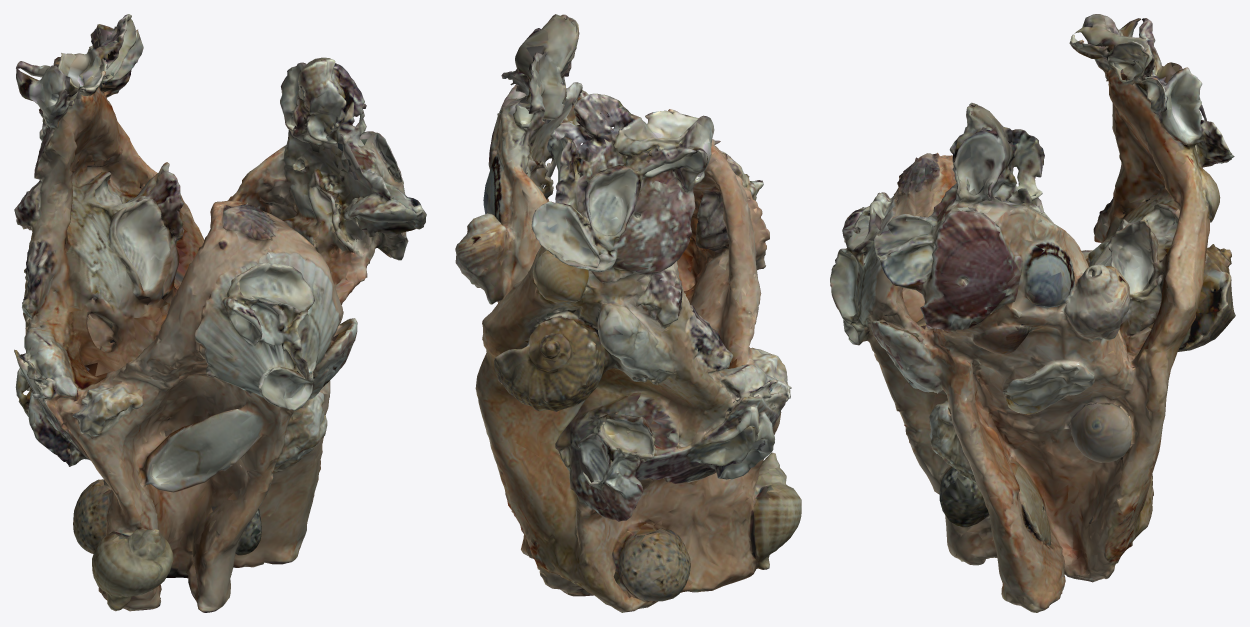
The model's file is 09_hong.glb.
3 renders of one model, left to right at view 1: azimuth 30°, elevation 25°; view 2: azimuth 150°, elevation 25°; view 3: azimuth 270°, elevation 25°, orthographic.
Visible parts, largest first — view 1: 수정후; view 2: 수정후; view 3: 수정후.
Boxes of the visible parts, <box> form: 수정후: <box>14,14,426,612</box>; 수정후: <box>455,14,801,612</box>; 수정후: <box>830,14,1235,612</box>.
Bounding box in the file's own units: 0.7587 × 1.19 × 0.8387.
Materials: 1 (1 with a texture image).
